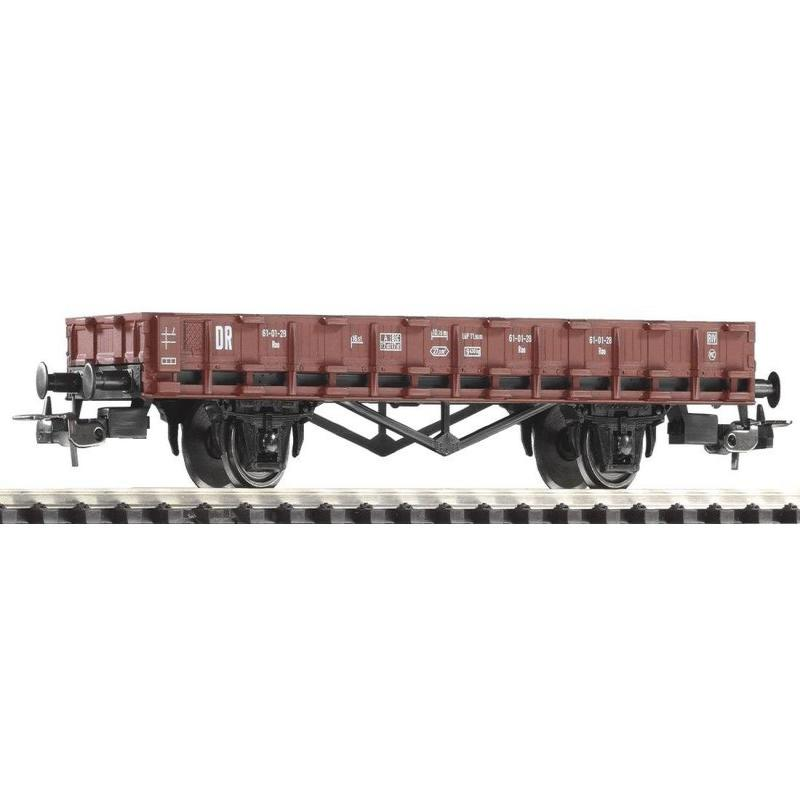train: (31, 289, 795, 504)
